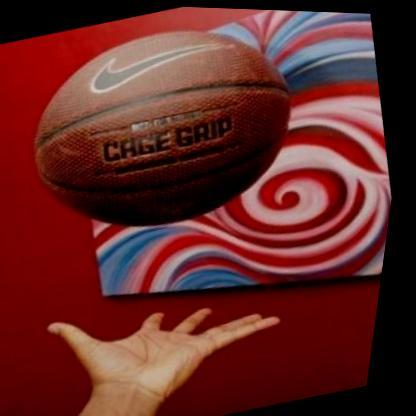basketball: (7, 1, 326, 251)
